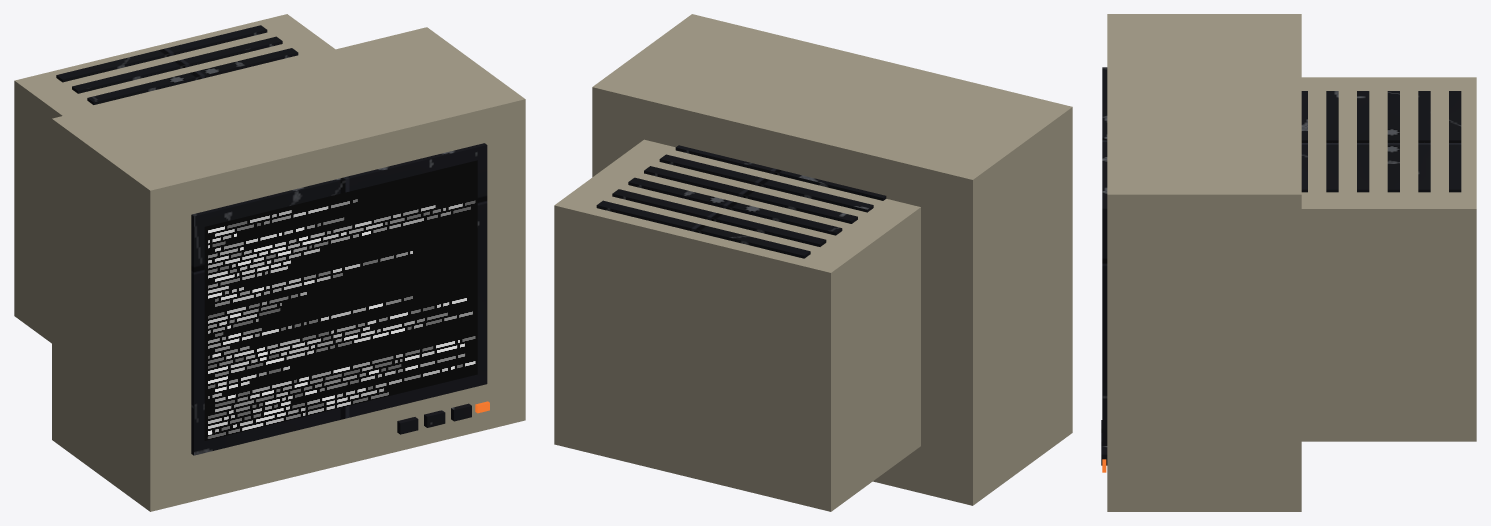
The model's file is Tech_CRT.001.gltf.
3 views of the same model, side by side, from view 1: azimuth 30°, elevation 25°; view 2: azimuth 150°, elevation 25°; view 3: azimuth 270°, elevation 25° (orthographic). The views are drawn at different scales.
Visible parts, largest first — view 1: Tech_CRT.001; view 2: Tech_CRT.001; view 3: Tech_CRT.001.
Boxes of the visible parts, x1,y1,x2,y2 form: Tech_CRT.001: [14, 14, 525, 511]; Tech_CRT.001: [554, 14, 1072, 511]; Tech_CRT.001: [1101, 14, 1476, 511].
Size of the model in its own units: 0.418 by 0.342 by 0.367.
Materials: 4 (2 with a texture image).
